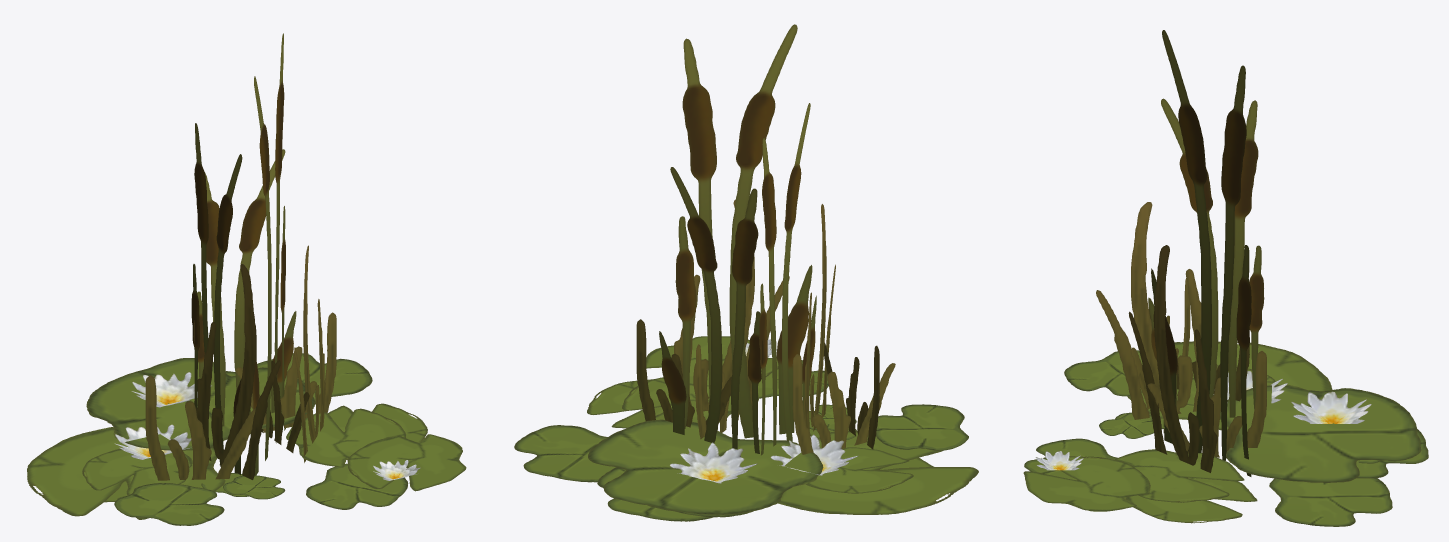
File: SM_WaterPlants.fbx
The picture shows the model from 3 angles, left to right: view 1: azimuth 30°, elevation 25°; view 2: azimuth 150°, elevation 25°; view 3: azimuth 270°, elevation 25°; orthographic projection. The views are drawn at different scales.
Visible parts, largest first — view 1: SM_WaterPlants_05, SM_WaterPlants_06, SM_WaterPlants_01, SM_WaterPlants_03, SM_WaterPlants_02, SM_WaterPlants_04; view 2: SM_WaterPlants_06, SM_WaterPlants_05, SM_WaterPlants_03, SM_WaterPlants_02, SM_WaterPlants_01, SM_WaterPlants_04; view 3: SM_WaterPlants_05, SM_WaterPlants_06, SM_WaterPlants_01, SM_WaterPlants_02, SM_WaterPlants_03, SM_WaterPlants_04.
Part boxes in pixels (x1,y1,x2,y2): SM_WaterPlants_05: [86, 358, 466, 525]; SM_WaterPlants_06: [191, 33, 296, 475]; SM_WaterPlants_01: [107, 264, 405, 480]; SM_WaterPlants_03: [27, 353, 408, 519]; SM_WaterPlants_02: [82, 245, 336, 499]; SM_WaterPlants_04: [104, 371, 427, 502]; SM_WaterPlants_06: [659, 24, 816, 455]; SM_WaterPlants_05: [588, 336, 968, 514]; SM_WaterPlants_03: [514, 360, 978, 514]; SM_WaterPlants_02: [636, 199, 913, 493]; SM_WaterPlants_01: [622, 204, 895, 517]; SM_WaterPlants_04: [587, 379, 933, 521]; SM_WaterPlants_05: [1023, 350, 1421, 511]; SM_WaterPlants_06: [1148, 30, 1264, 476]; SM_WaterPlants_01: [1096, 202, 1249, 502]; SM_WaterPlants_02: [1099, 245, 1380, 472]; SM_WaterPlants_03: [1024, 341, 1392, 526]; SM_WaterPlants_04: [1115, 371, 1428, 523].
Size of the model in its own units: 2.34 by 2.38 by 2.17.
Materials: 1 (1 with a texture image).
